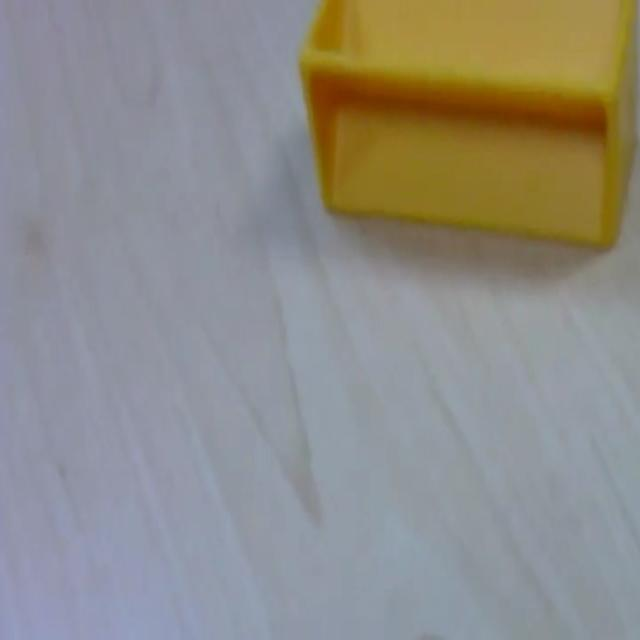yellow_block: (297, 0, 637, 251)
